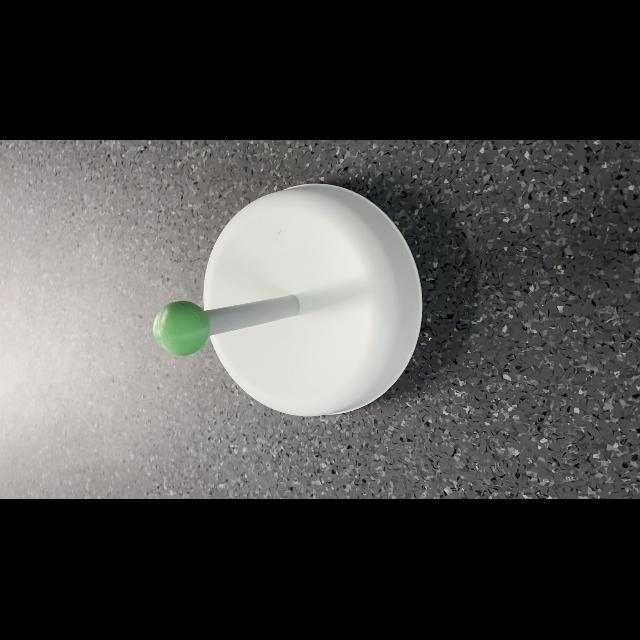objects: (148, 296, 212, 359)
